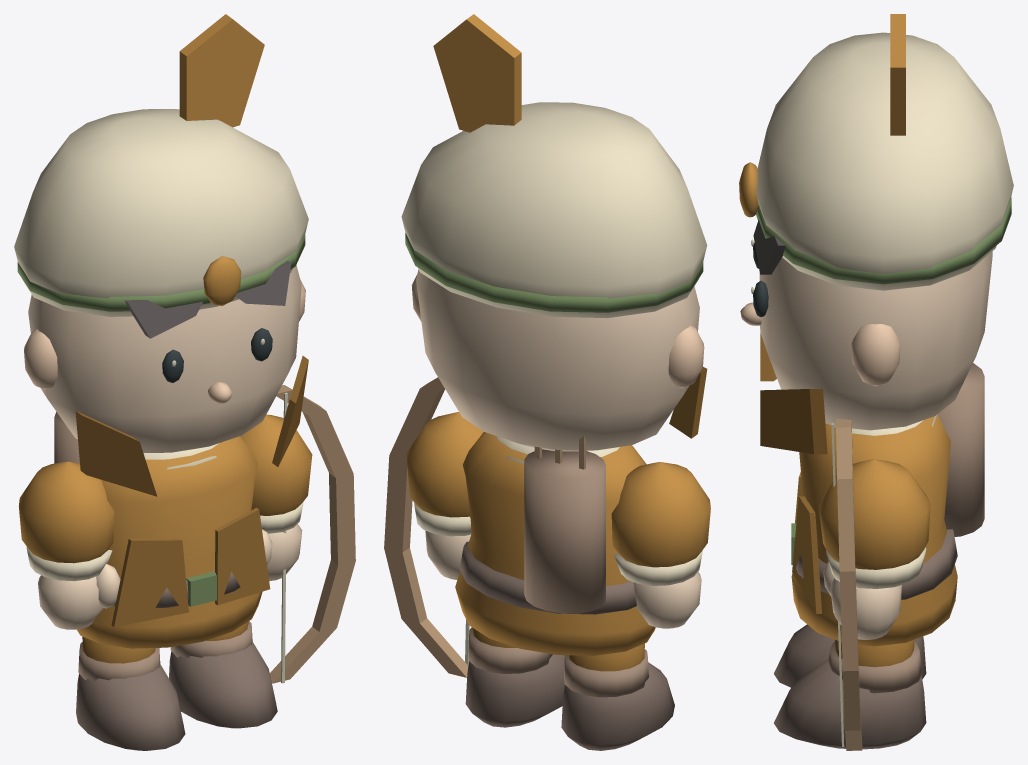
The model's file is archer.glb.
3 renders of one model, left to right at view 1: azimuth 30°, elevation 25°; view 2: azimuth 150°, elevation 25°; view 3: azimuth 270°, elevation 25°, orthographic. The views are drawn at different scales.
Parts seen in each view (by area): view 1: Layered cloth turban, Soft cheek head, Short folded tunic, Puff sleeve, Curved bow, Round leather boot, Turban fan, Round leather boot.001, Coat fold, Puff sleeve.001, Hood cheek cowl, Coat fold.001 (+18 smaller); view 2: Layered cloth turban, Soft cheek head, Short folded tunic, Quiver leather, Puff sleeve, Turban fan, Curved bow, Round leather boot, Puff sleeve.001, Round leather boot.001, Turban wrapping, Broad leather belt (+9 smaller); view 3: Layered cloth turban, Soft cheek head, Short folded tunic, Puff sleeve.001, Round leather boot.001, Quiver leather, Curved bow, Hood cheek cowl R, Turban wrapping, Ear.001, Little mitten.001, Round leather boot (+10 smaller).
Part boxes in pixels (x1=…): Layered cloth turban: x1=14, y1=109, x2=308, y2=316; Soft cheek head: x1=28, y1=265, x2=301, y2=452; Short folded tunic: x1=76, y1=436, x2=262, y2=648; Puff sleeve: x1=18, y1=461, x2=114, y2=563; Curved bow: x1=270, y1=385, x2=355, y2=683; Round leather boot: x1=76, y1=664, x2=185, y2=750; Turban fan: x1=179, y1=14, x2=264, y2=127; Round leather boot.001: x1=169, y1=641, x2=277, y2=728; Coat fold: x1=111, y1=538, x2=188, y2=627; Puff sleeve.001: x1=240, y1=414, x2=312, y2=515; Hood cheek cowl: x1=75, y1=411, x2=157, y2=496; Coat fold.001: x1=215, y1=507, x2=270, y2=605; Layered cloth turban: x1=401, y1=102, x2=707, y2=318; Soft cheek head: x1=416, y1=269, x2=699, y2=451; Short folded tunic: x1=455, y1=432, x2=655, y2=655; Quiver leather: x1=524, y1=449, x2=605, y2=613; Puff sleeve: x1=611, y1=462, x2=710, y2=567; Turban fan: x1=433, y1=14, x2=521, y2=132; Curved bow: x1=384, y1=377, x2=468, y2=677; Round leather boot: x1=561, y1=662, x2=674, y2=750; Puff sleeve.001: x1=406, y1=412, x2=483, y2=517; Round leather boot.001: x1=465, y1=654, x2=564, y2=727; Turban wrapping: x1=405, y1=233, x2=703, y2=312; Broad leather belt: x1=459, y1=541, x2=636, y2=614; Layered cloth turban: x1=756, y1=32, x2=1013, y2=290; Soft cheek head: x1=759, y1=251, x2=992, y2=430; Short folded tunic: x1=791, y1=414, x2=957, y2=646; Puff sleeve.001: x1=818, y1=459, x2=930, y2=569; Round leather boot.001: x1=774, y1=659, x2=926, y2=749; Quiver leather: x1=938, y1=363, x2=984, y2=536; Curved bow: x1=836, y1=418, x2=862, y2=750; Hood cheek cowl R: x1=760, y1=389, x2=827, y2=454; Turban wrapping: x1=756, y1=197, x2=1011, y2=284; Ear.001: x1=851, y1=324, x2=900, y2=386; Little mitten.001: x1=830, y1=578, x2=901, y2=639; Round leather boot: x1=774, y1=624, x2=926, y2=687.
Size of the model in its own units: 0.89 by 1.81 by 0.612.
